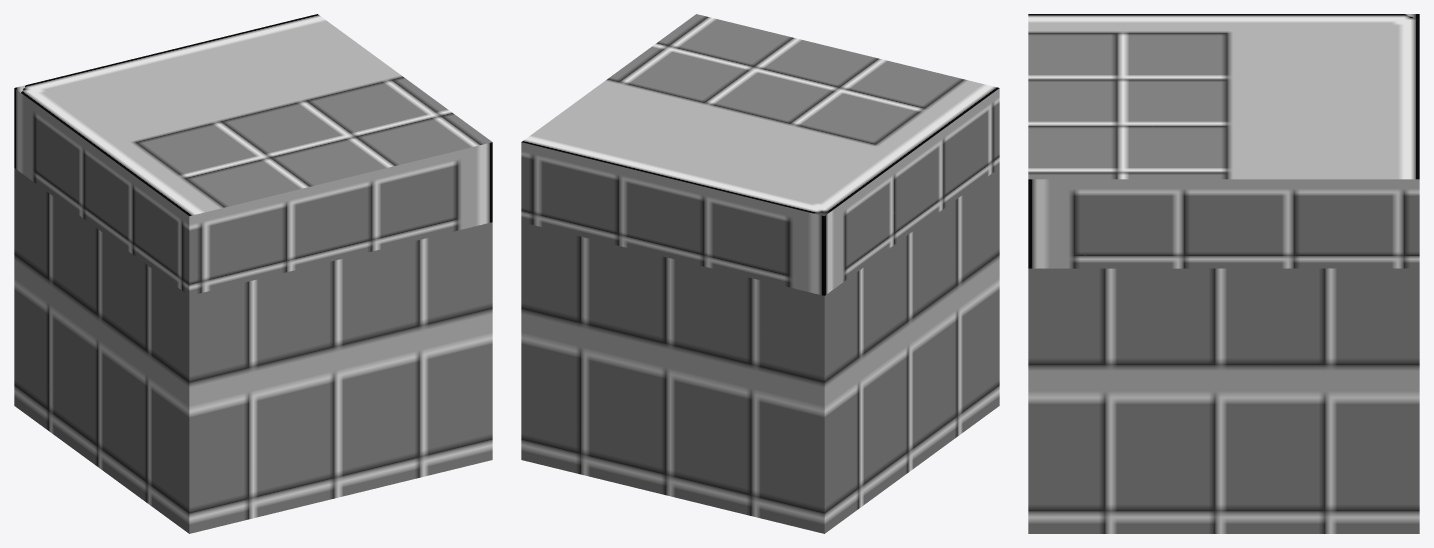
Rendered from adjustable_storage.obj.
3 renders of one model, left to right at view 1: azimuth 30°, elevation 25°; view 2: azimuth 150°, elevation 25°; view 3: azimuth 270°, elevation 25°, orthographic. The views are drawn at different scales.
Visible parts, largest first — view 1: Base_Cube.005, Top_Cube.006; view 2: Base_Cube.005, Top_Cube.006; view 3: Base_Cube.005, Top_Cube.006.
Boxes of the visible parts, x1,y1,x2,y2 form: Base_Cube.005: [14, 168, 492, 533]; Top_Cube.006: [14, 14, 492, 295]; Base_Cube.005: [521, 168, 999, 533]; Top_Cube.006: [521, 14, 999, 295]; Base_Cube.005: [1028, 268, 1419, 533]; Top_Cube.006: [1028, 14, 1419, 268].
Size of the model in its own units: 1 by 1 by 1.
